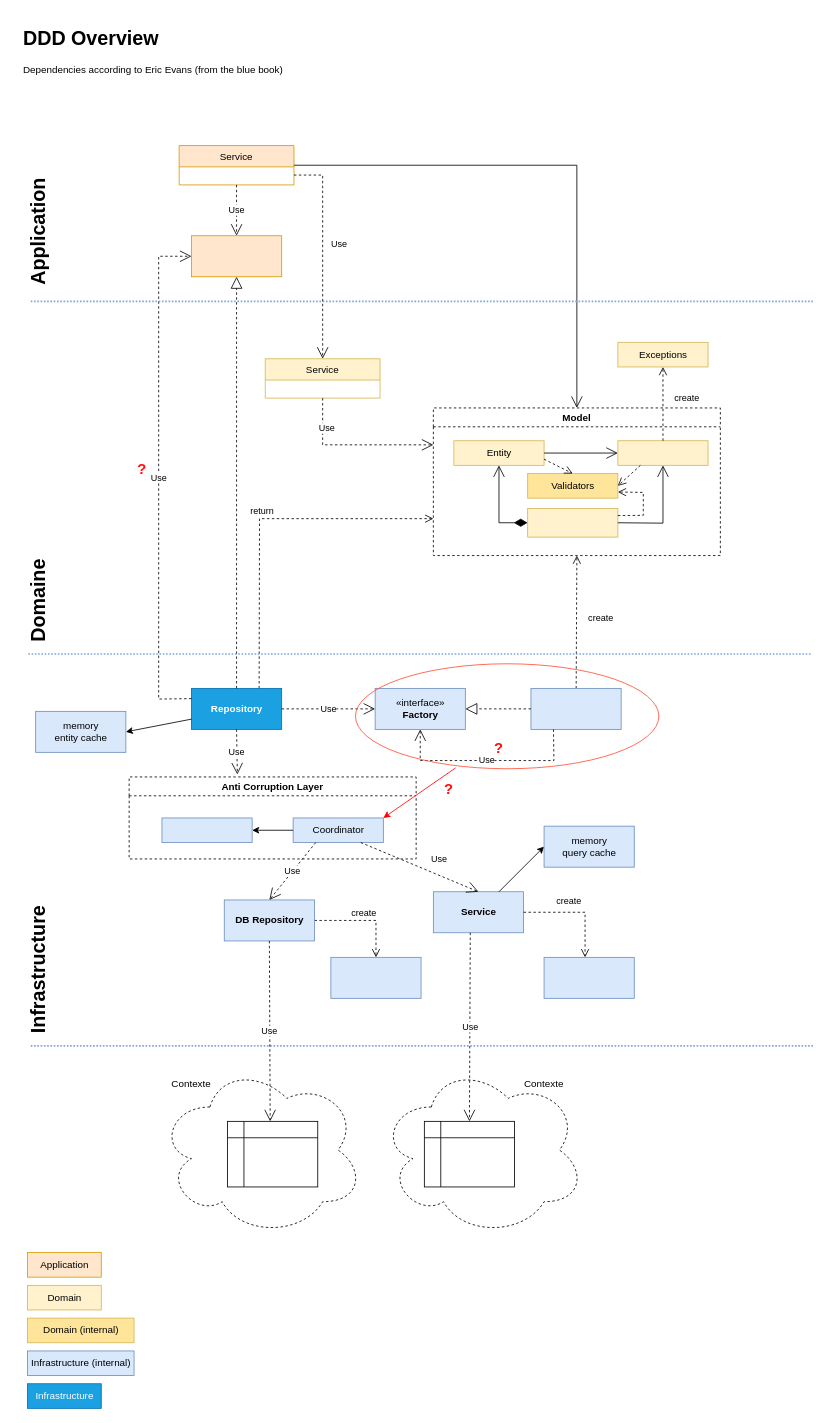
Some shapes in this 831 by 1423 pixel diagram are drawn without their labels. Each missing label, with the centre of its shape:
Aggregate: [572,522]
DB Entity: [375,977]
DTO: [588,977]
Factory: [575,708]
storage: [272,1154]
translators: [206,830]
Value Object: [662,452]
Web API: [469,1154]
«interface» Repository: [236,256]
